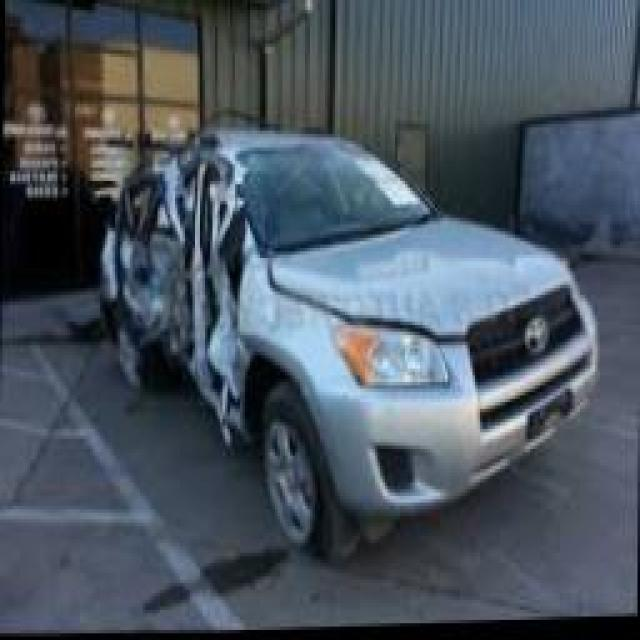Door: (103, 154, 260, 435)
